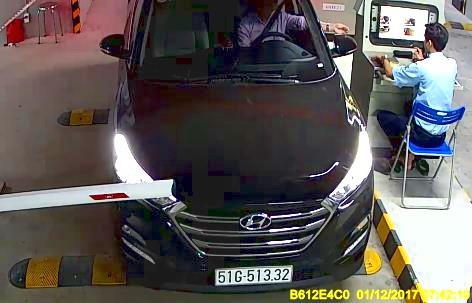plate: (210, 262, 292, 284)
